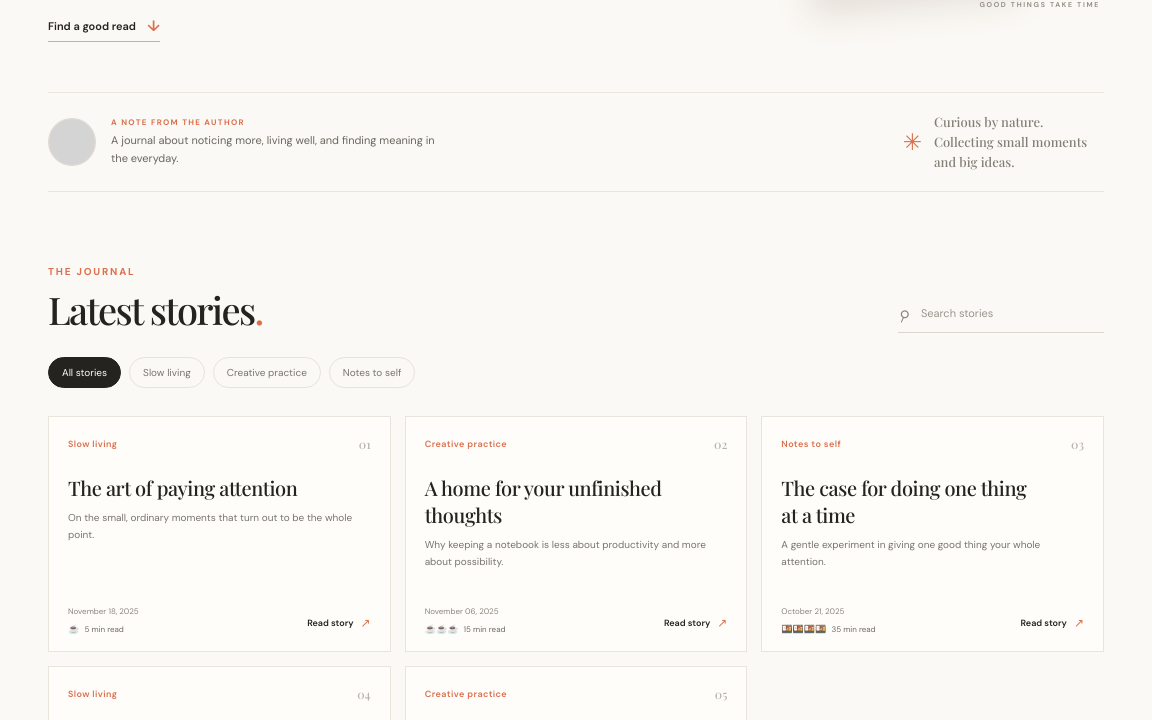
Test: filters stories by category and search query
(page scrolled)
Step 1. Click the button "Creative practice" → [267, 372], box [213, 357, 321, 388]
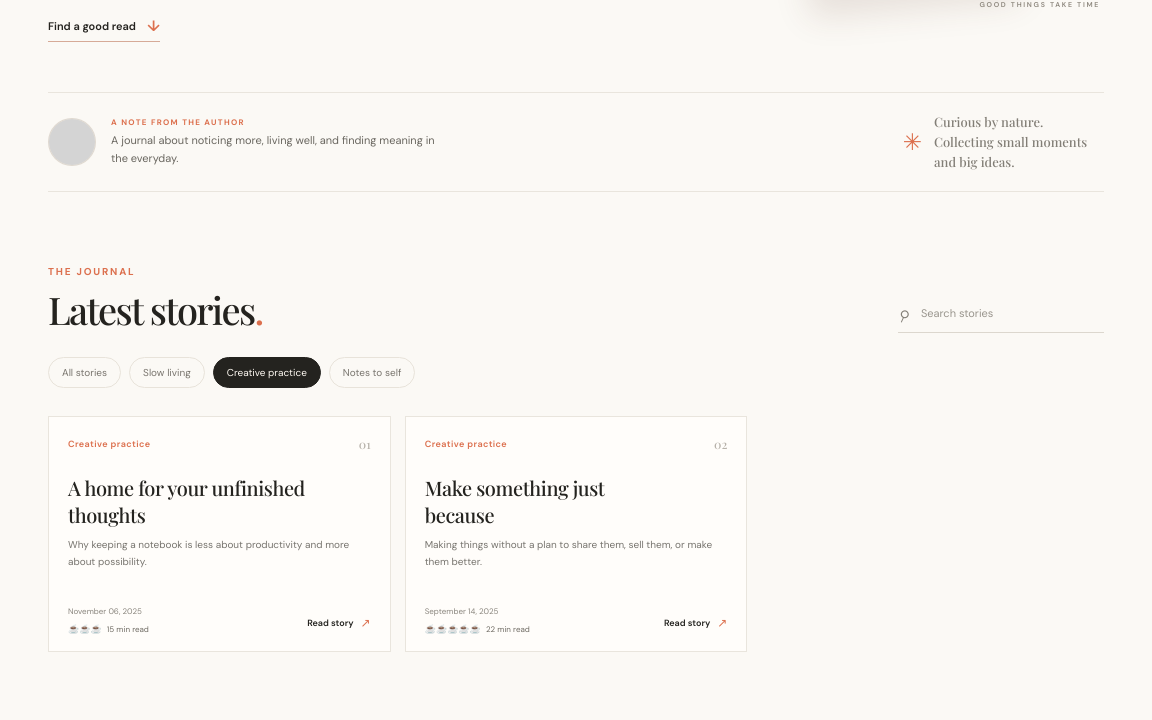
expect the heading "A home for your unfinished thoughts" is shown: met, box [68, 474, 318, 528]
expect the heading "The art of paying attention" is gone: met
Step 2. Type "notebook" into the search field named "Search stories" → [1011, 314], box [919, 306, 1104, 322]
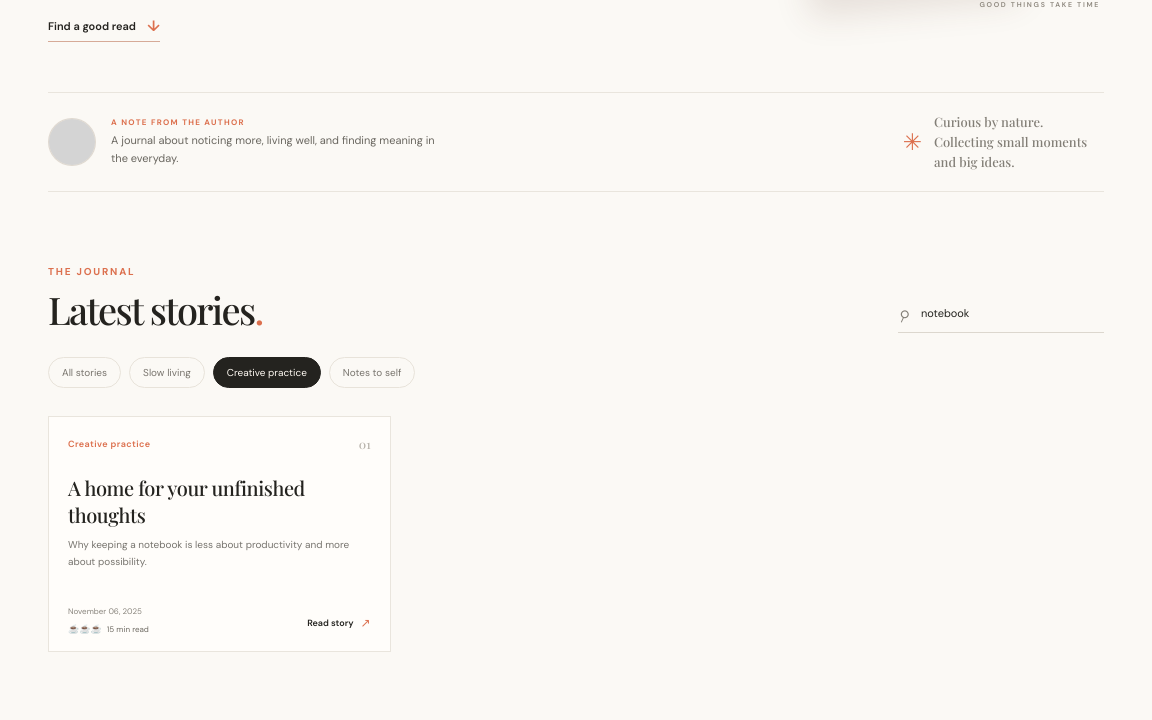
expect the heading "A home for your unfinished thoughts" is shown: met, box [68, 474, 318, 528]
expect the heading "Make something just because" is gone: met
